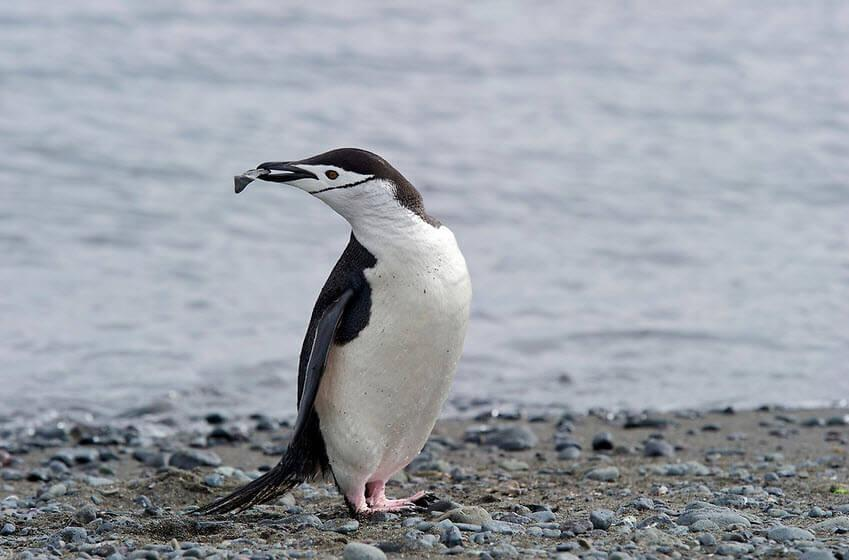Penguin: (201, 147, 471, 513)
